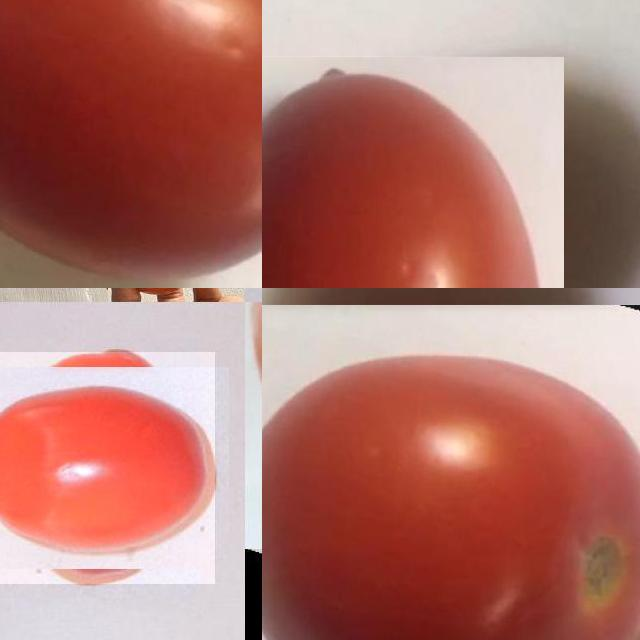0: (262, 304, 640, 640)
Fresh Tomato: (0, 0, 262, 288), (262, 56, 564, 288), (0, 352, 215, 584), (108, 288, 196, 302)
